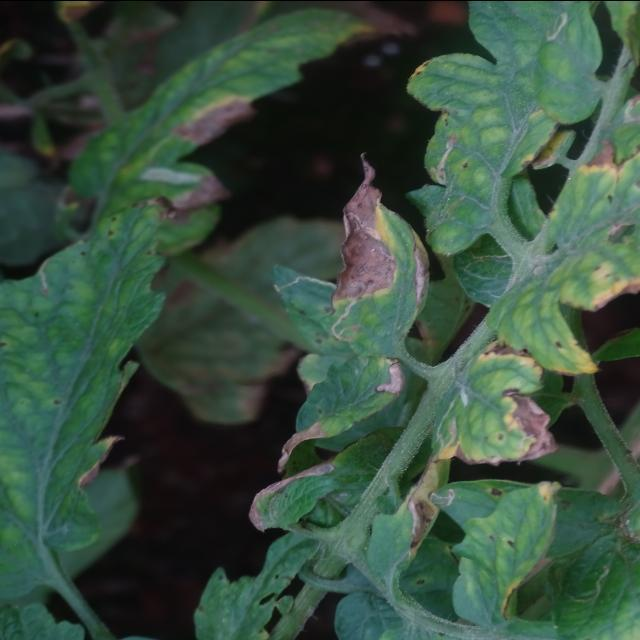Tomato mosaic virus leaf: (326, 149, 434, 359)
